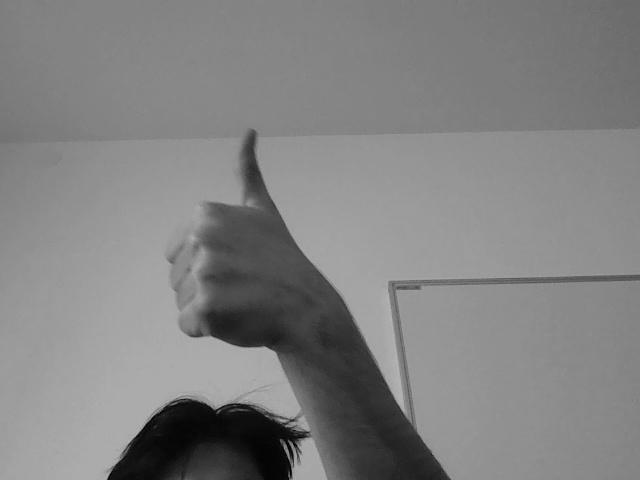good: (147, 130, 336, 346)
